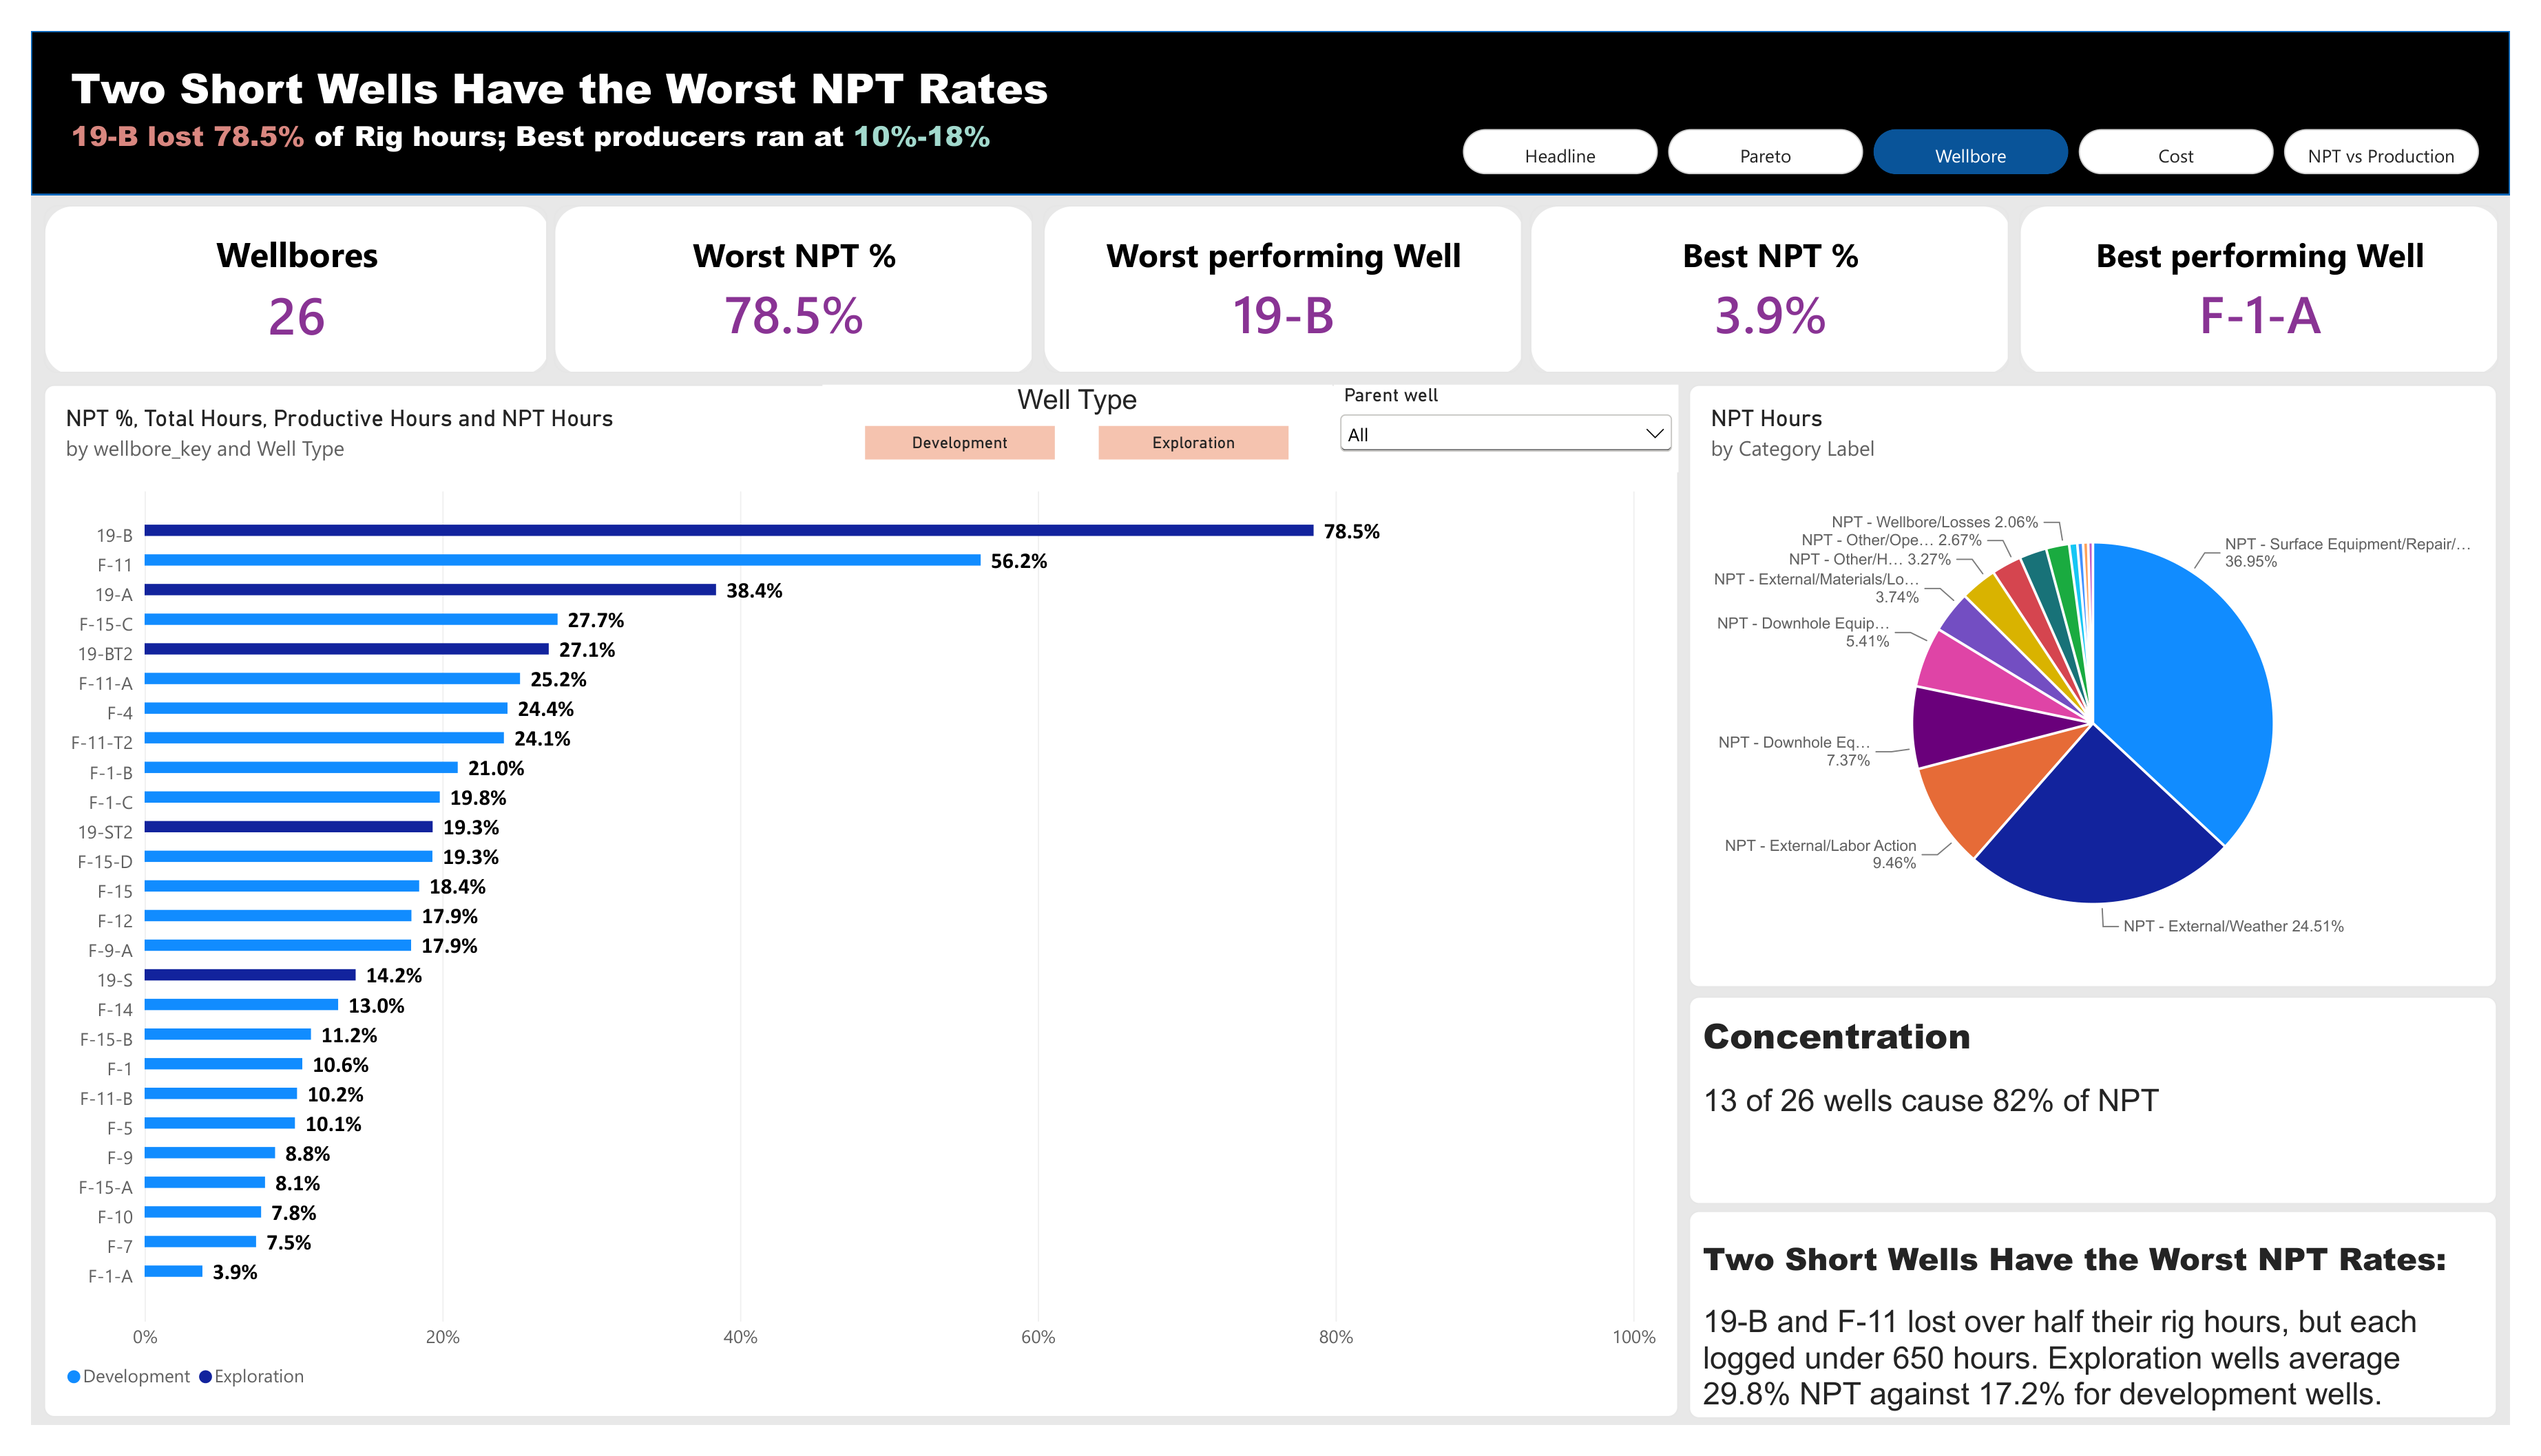

The page's visual inventory and layout, read from the dashboard file:
{"tool":"powerbi","page":{"name":"Wellbore","canvas":[1920,1080],"ordinal":2},"visuals":[{"type":"shape","box":[0,0,1920,126.7],"z":0},{"type":"clusteredBarChart","fields":{"Category":["public dim_wellbore.wellbore_key"],"Series":["public dim_wellbore.Well Type"],"Y":["_Measures.NPT %"]},"box":[10,274,1265.9,800],"z":500,"group":"g1"},{"type":"pageNavigator","box":[1109,76,791,35],"z":1000},{"type":"textbox","box":[30.9,20.6,850.1,84.4],"z":2000},{"type":"cardVisual","fields":{"Data":["_Measures.Wellbores"]},"box":[10.3,135,390,130],"z":3000},{"type":"advancedSlicerVisual","fields":{"Values":["public dim_wellbore.Well Type"]},"box":[613.4,273.8,395,67],"z":3500,"group":"g1"},{"type":"cardVisual","fields":{"Data":["_Measures.Worst NPT %","_Measures.Worst performing Well"]},"box":[405,135,750,130],"z":4000},{"type":"slicer","fields":{"Values":["public dim_wellbore.parent_well"]},"box":[1008.6,273.8,267.6,67.9],"z":4000,"group":"g1"},{"type":"cardVisual","fields":{"Data":["_Measures.Best NPT %","_Measures.Best performing Well"]},"box":[1160.9,135,750,130],"z":5000},{"type":"textbox","box":[1284,748,625.7,160.5],"z":6000},{"type":"textbox","box":[1284,914,625.7,160.5],"z":7000},{"type":"pieChart","fields":{"Category":["public dim_npt_category.Category Label"],"Y":["_Measures.NPT Hours"]},"box":[1284.4,273.8,625.7,467],"z":8000},{"type":"group","id":"g1","title":"Group 1","box":[10,273.8,1266.2,800.2],"z":9000}]}

Visuals, with their boxes in screenshot pixels (x1, y1, x2, y2), scaled from the page's 1920x1080 canvas onto the 2541x1456 screenshot:
shape: [left=0, top=0, right=2540, bottom=171]
clusteredBarChart - public dim_wellbore.wellbore_key x public dim_wellbore.Well Type: [left=13, top=370, right=1688, bottom=1448]
pageNavigator: [left=1467, top=103, right=2515, bottom=149]
textbox: [left=41, top=28, right=1166, bottom=142]
cardVisual - _Measures.Wellbores: [left=14, top=182, right=530, bottom=357]
advancedSlicerVisual - public dim_wellbore.Well Type: [left=812, top=369, right=1335, bottom=459]
cardVisual - _Measures.Worst NPT % x _Measures.Worst performing Well: [left=536, top=182, right=1529, bottom=357]
slicer - public dim_wellbore.parent_well: [left=1335, top=369, right=1689, bottom=461]
cardVisual - _Measures.Best NPT % x _Measures.Best performing Well: [left=1536, top=182, right=2529, bottom=357]
textbox: [left=1700, top=1009, right=2527, bottom=1225]
textbox: [left=1700, top=1232, right=2527, bottom=1448]
pieChart - public dim_npt_category.Category Label x _Measures.NPT Hours: [left=1700, top=369, right=2528, bottom=999]
"Group 1" group: [left=13, top=369, right=1689, bottom=1448]
